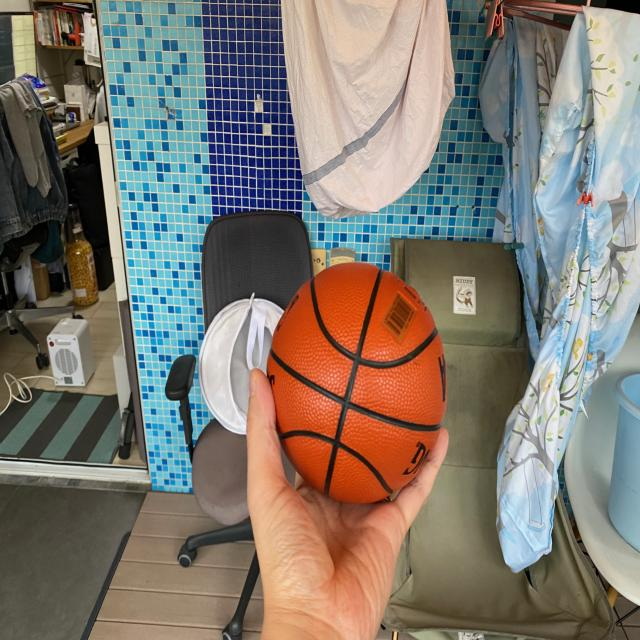Ball: (252, 241, 466, 524)
